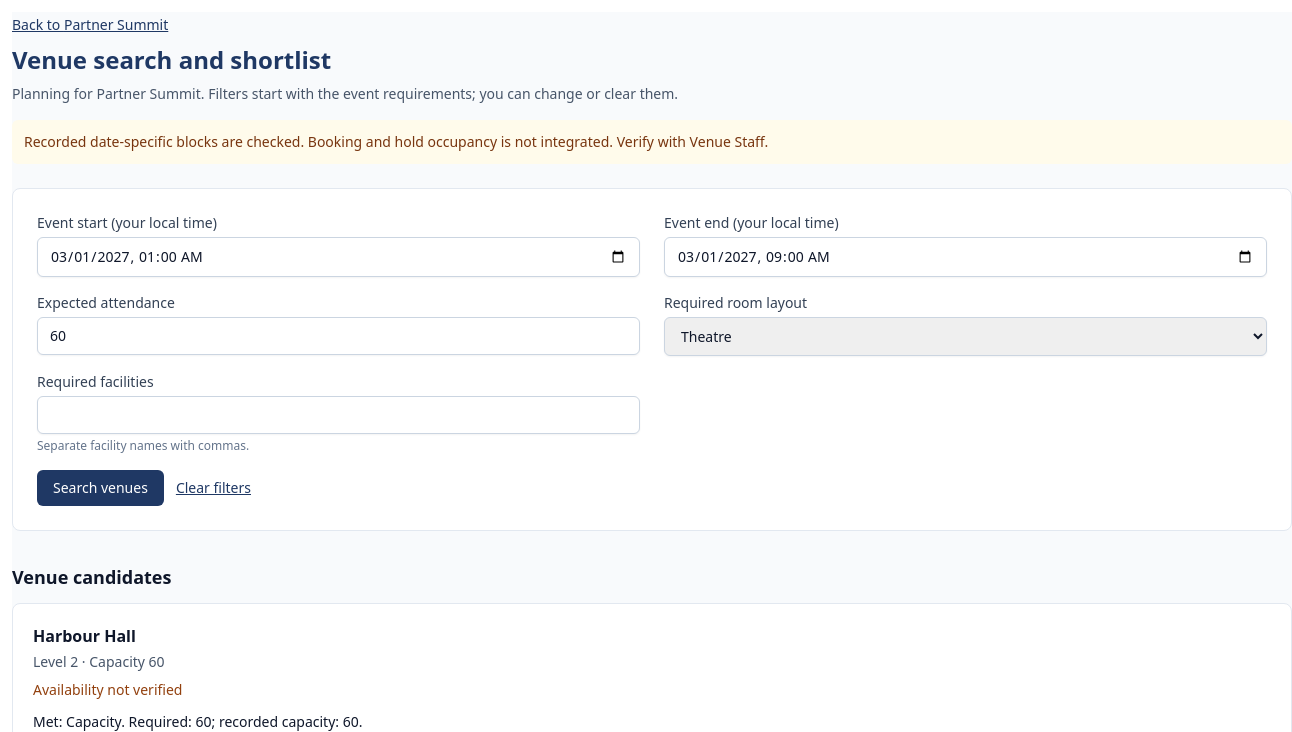
Test: SCRUM-64/68 venue discovery › SCRUM-64 AC4: clearing filters removes optional constraints
The image size is (1292, 732).
Expected: the heading "Harbour Hall" is shown, [33,625,136,647]
Click the button "Clear filters" at (213, 488), box [176,470,251,506]
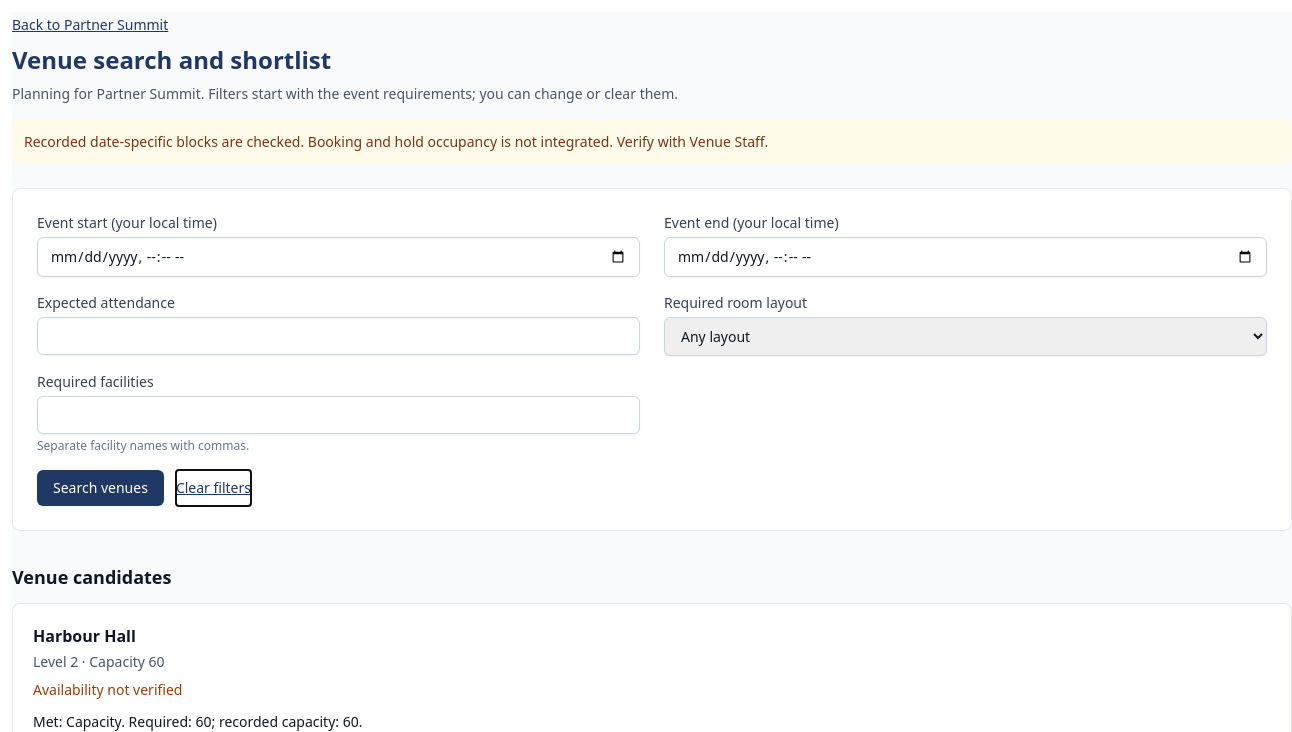
Expected: the number field labelled "Expected attendance" is not empty, [37,317,640,355]
Expected: the field labelled "Event start (your local time)" is empty, [37,237,640,277]
